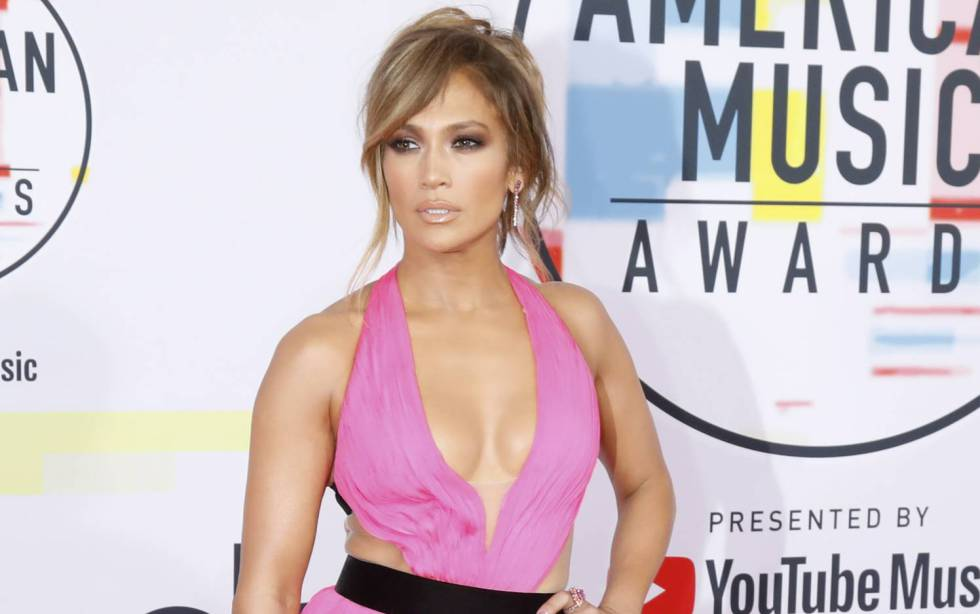person: (289, 33, 607, 437)
